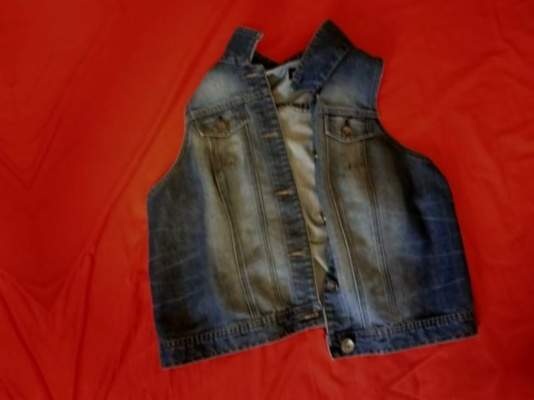Blazer: (91, 0, 506, 395)
